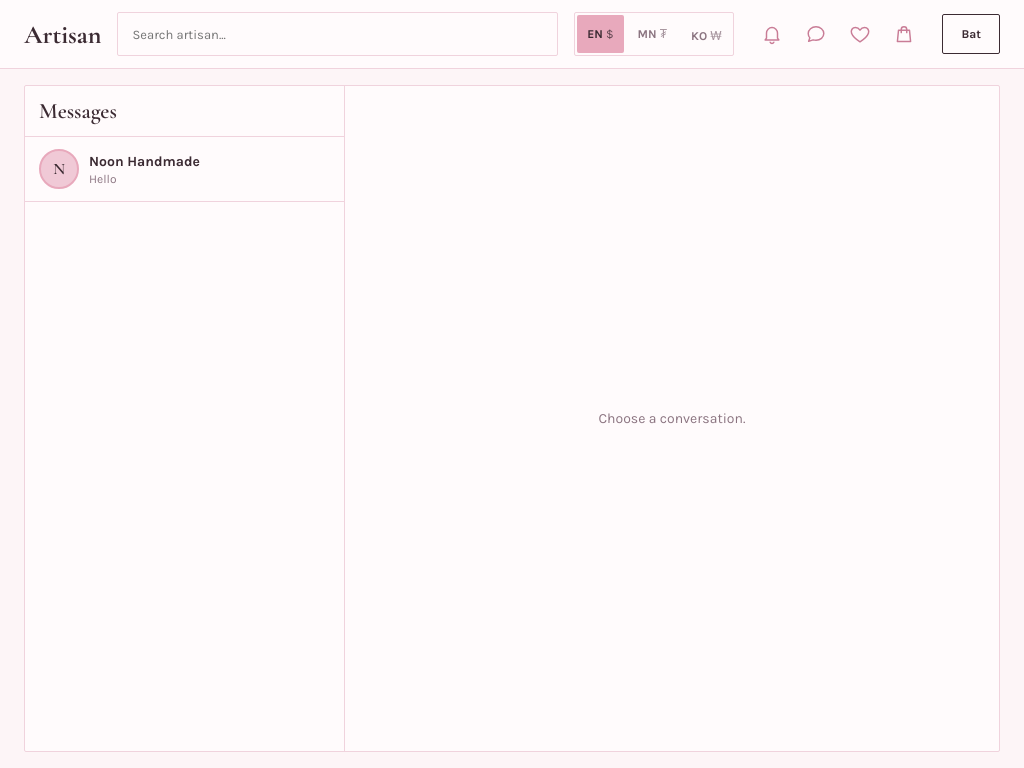
Test case: deep links › choosing a conversation changes the address
Click the button "N Noon Handmade Hello": click(184, 170) x1=25 y1=137 x2=344 y2=202
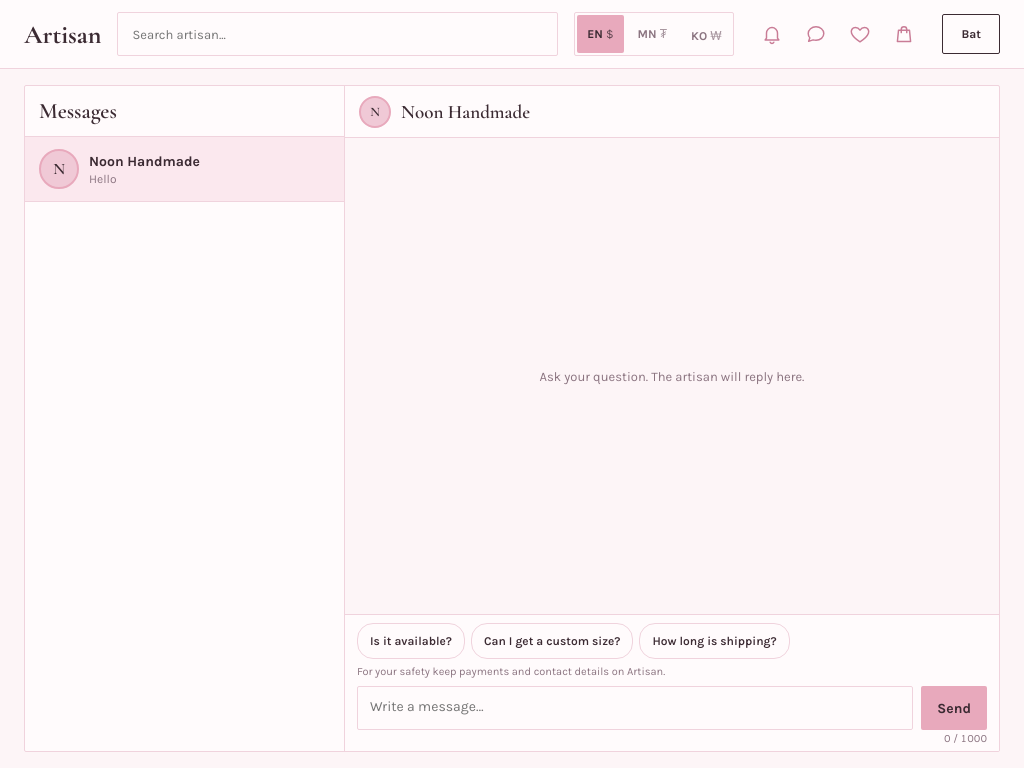
Expected: the element named "Noon Handmade" is shown, x1=345 y1=138 x2=999 y2=614
